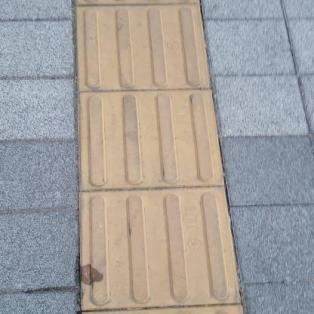Podoctatil: (64, 0, 254, 313)
